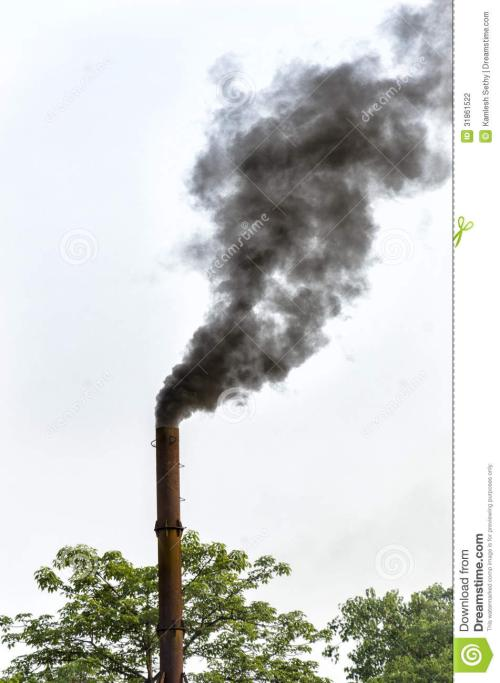smoke: (149, 1, 451, 427)
